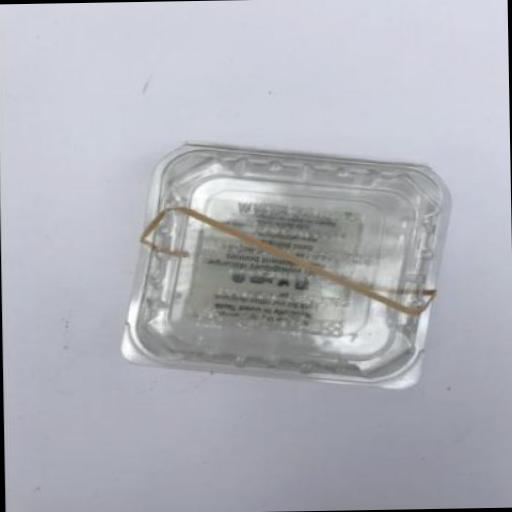plastic: (121, 136, 455, 393)
